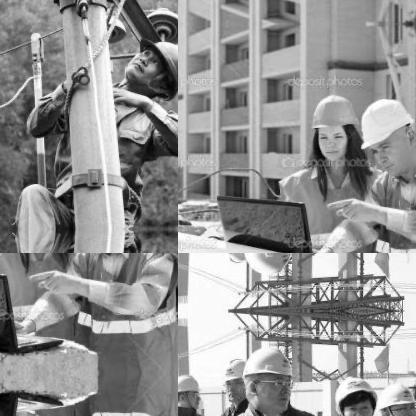Helmet: (355, 88, 415, 176), (307, 85, 359, 165), (241, 340, 291, 412), (121, 34, 177, 94), (218, 356, 250, 408), (334, 377, 377, 415), (374, 378, 415, 415), (240, 253, 293, 279), (178, 370, 202, 414), (217, 253, 251, 264), (406, 371, 415, 399)
